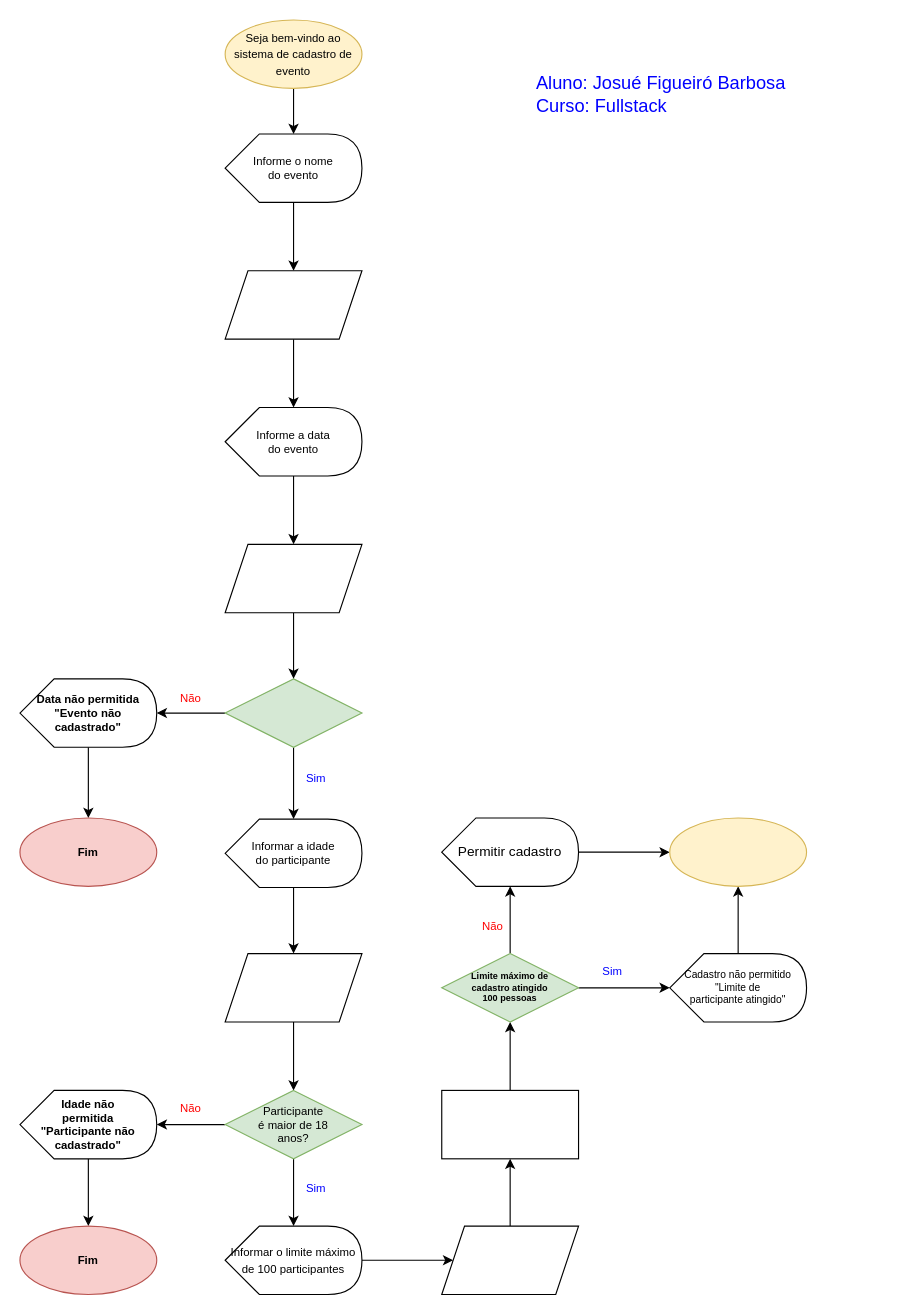
This 906x1314 diagram has some shape labels left out. Each missing label, with the centre of its shape:
Cadastro do Participante: point (510, 1259)
Contagem do número de participante, até atingir 100 pessoas: point (510, 1124)
Data do evento: point (293, 578)
Data do Evento posterior a data atual?: point (293, 712)
Fim do cadastro: point (738, 851)
Idade do participante: point (293, 987)
Nome do evento: point (293, 304)
